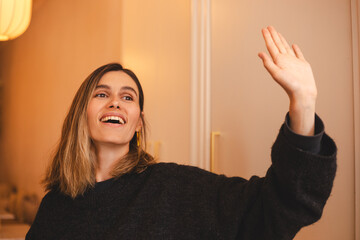Hello: (254, 18, 325, 103)
